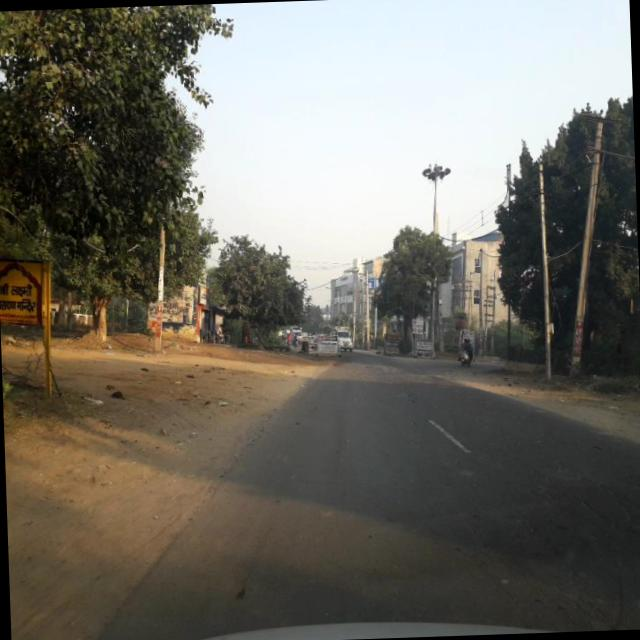crack: (541, 442, 640, 528)
